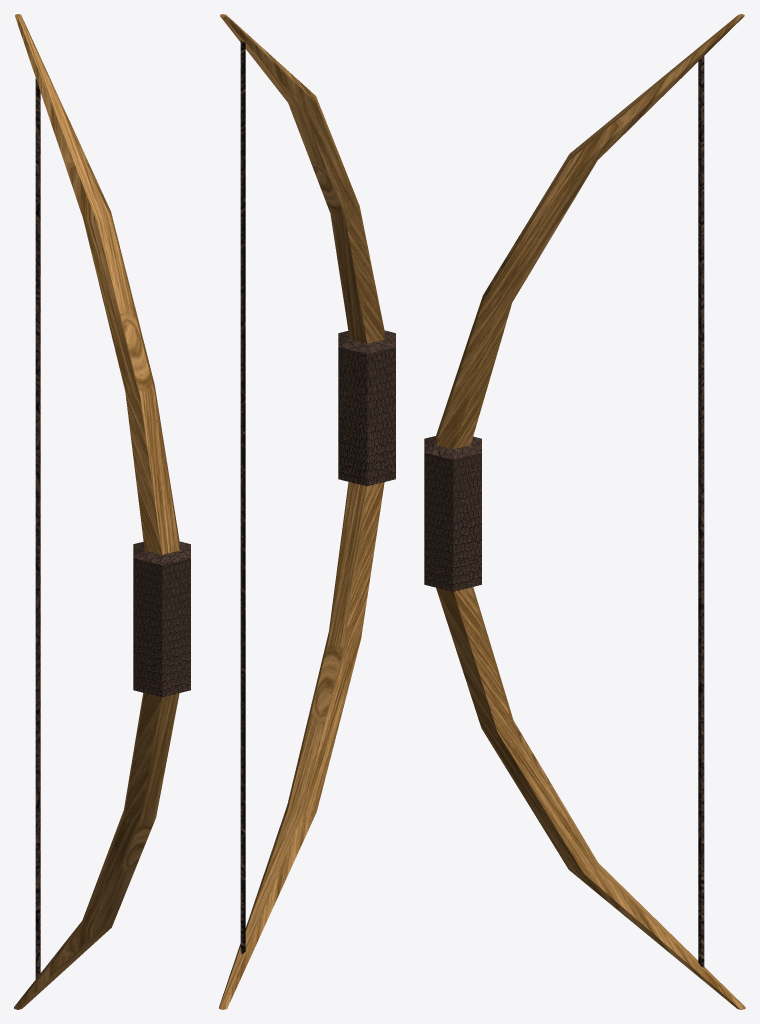
Rendered from Bow.fbx.
3 views of the same model, side by side, from view 1: azimuth 30°, elevation 25°; view 2: azimuth 150°, elevation 25°; view 3: azimuth 270°, elevation 25° (orthographic).
Parts seen in each view (by area): view 1: pCylinder3; view 2: pCylinder3; view 3: pCylinder3.
Part boxes in pixels (x1,y1,x2,y2): pCylinder3: [14, 14, 190, 1009]; pCylinder3: [219, 14, 395, 1009]; pCylinder3: [424, 14, 745, 1009].
Bounding box in the file's own units: 0.657 × 10.84 × 3.18.
